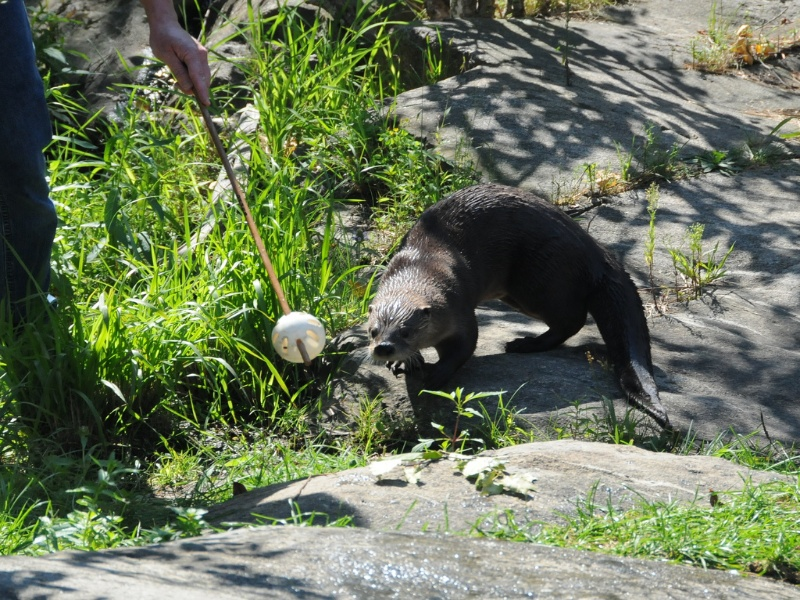minkish: (364, 187, 669, 430)
